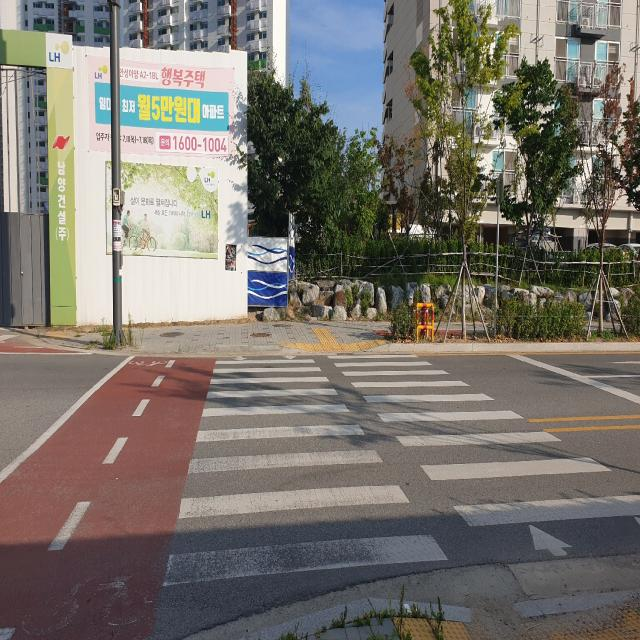횡단보도: (160, 351, 640, 592)
